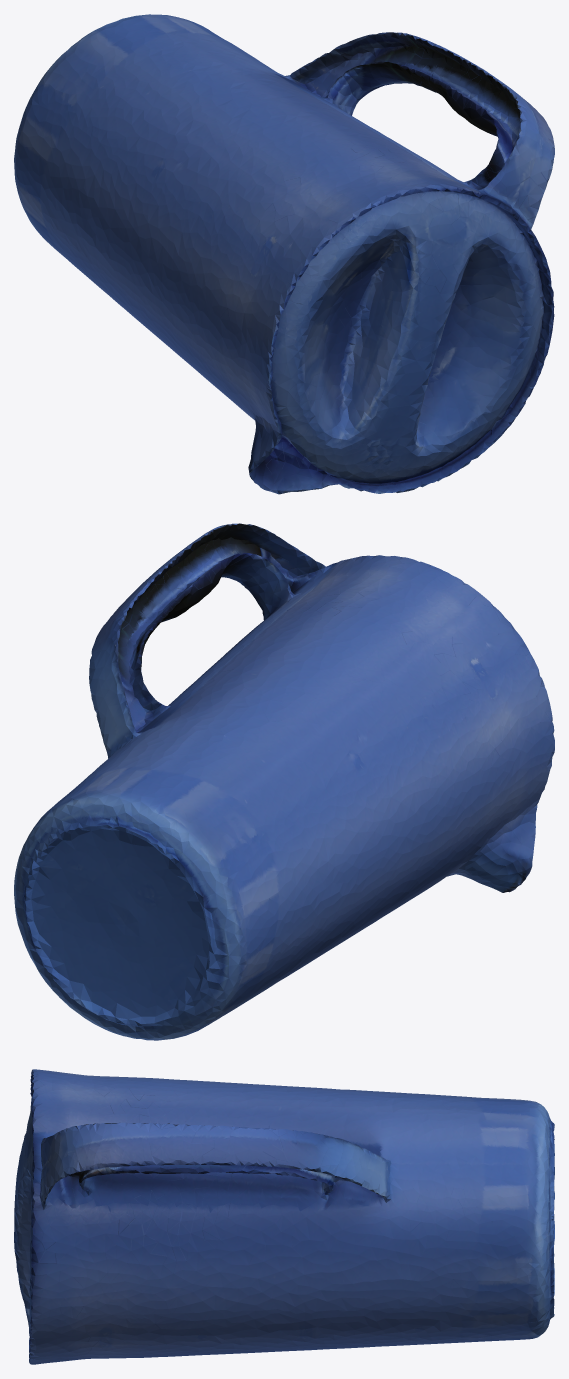
File: saved_spot.obj
3 views of the same model, one above another, from view 1: azimuth 30°, elevation 25°; view 2: azimuth 150°, elevation 25°; view 3: azimuth 270°, elevation 25° (orthographic). The views are drawn at different scales.
Bounding box in the file's own units: 0.149 × 0.1448 × 0.2426.
1 material, 1 textured.
